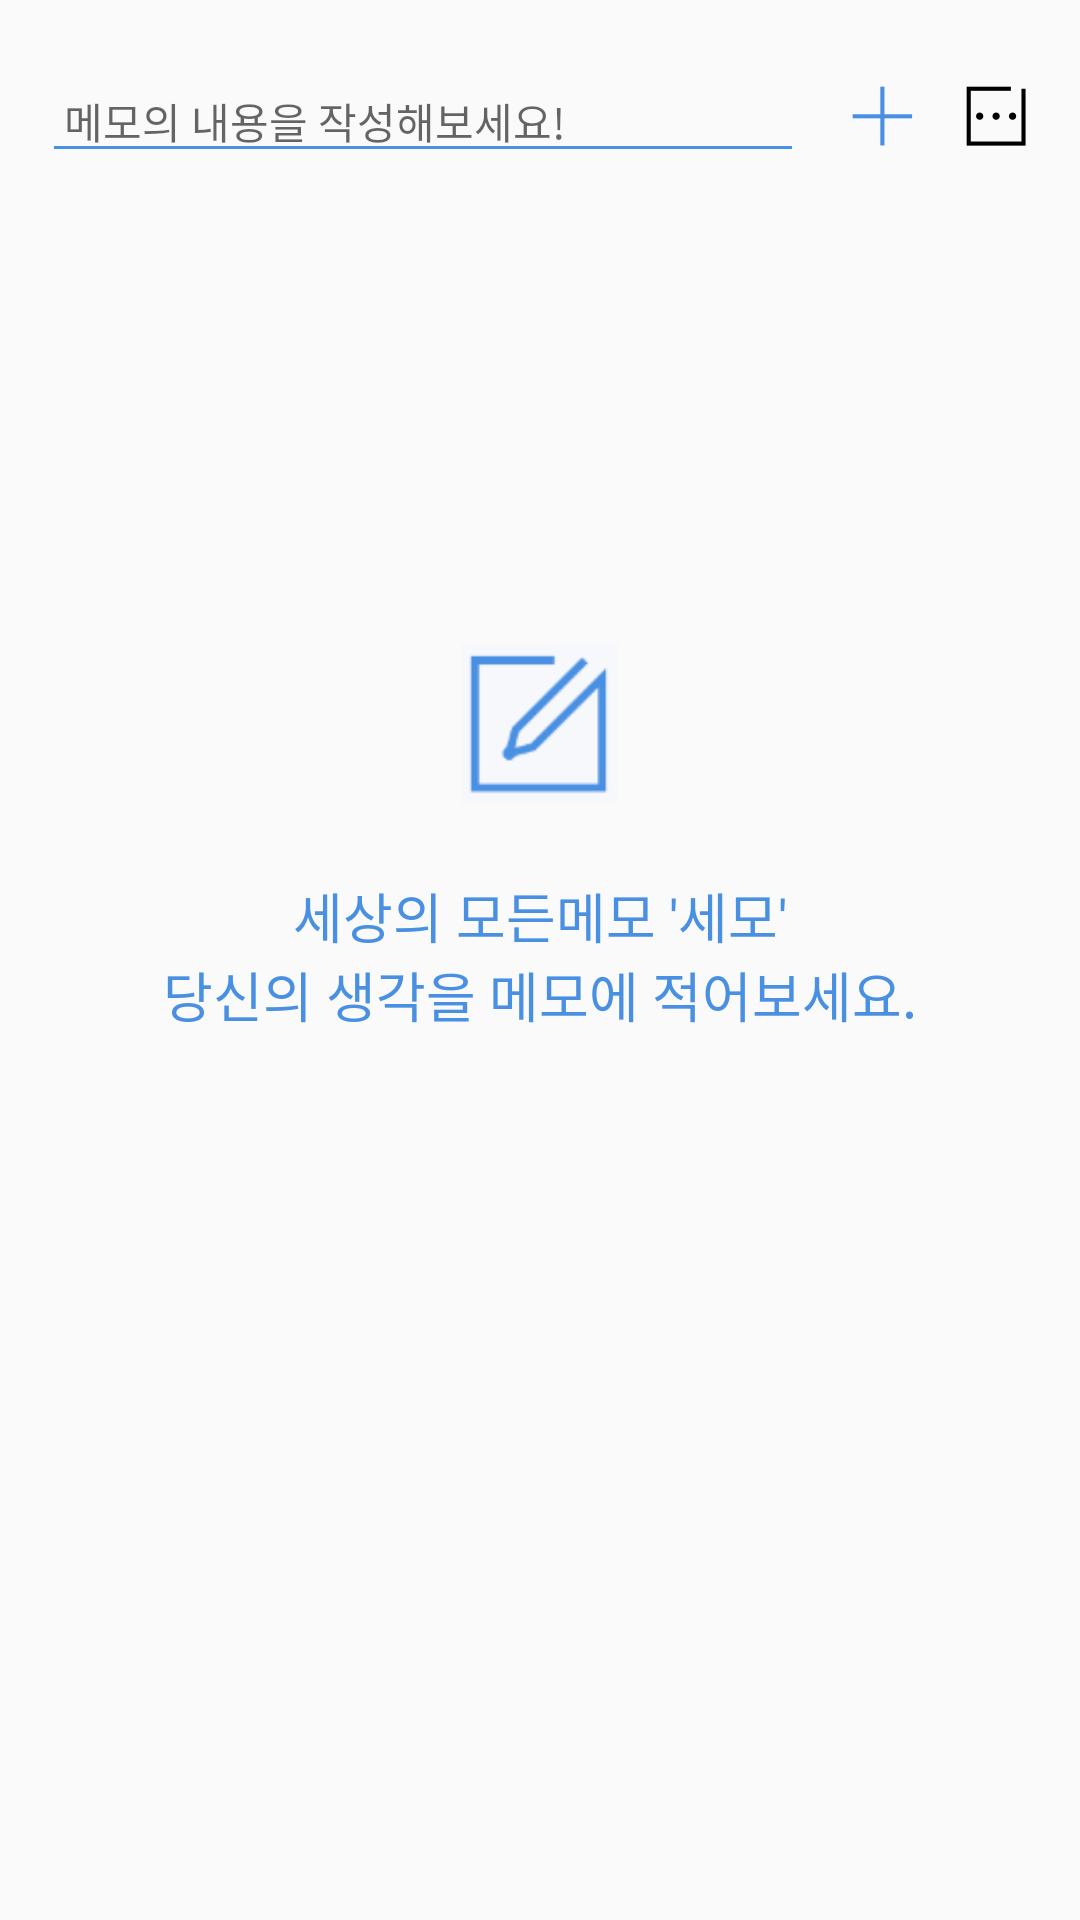

Icon bounding boxes for this 1080*1920 phone screenshot, format {"x1": x1, "y1": y1, "x2": x2, "y2": y2}:
mymemo: {"x1": 470, "y1": 655, "x2": 607, "y2": 793}
plus: {"x1": 852, "y1": 86, "x2": 912, "y2": 146}
write menu: {"x1": 966, "y1": 86, "x2": 1026, "y2": 146}
